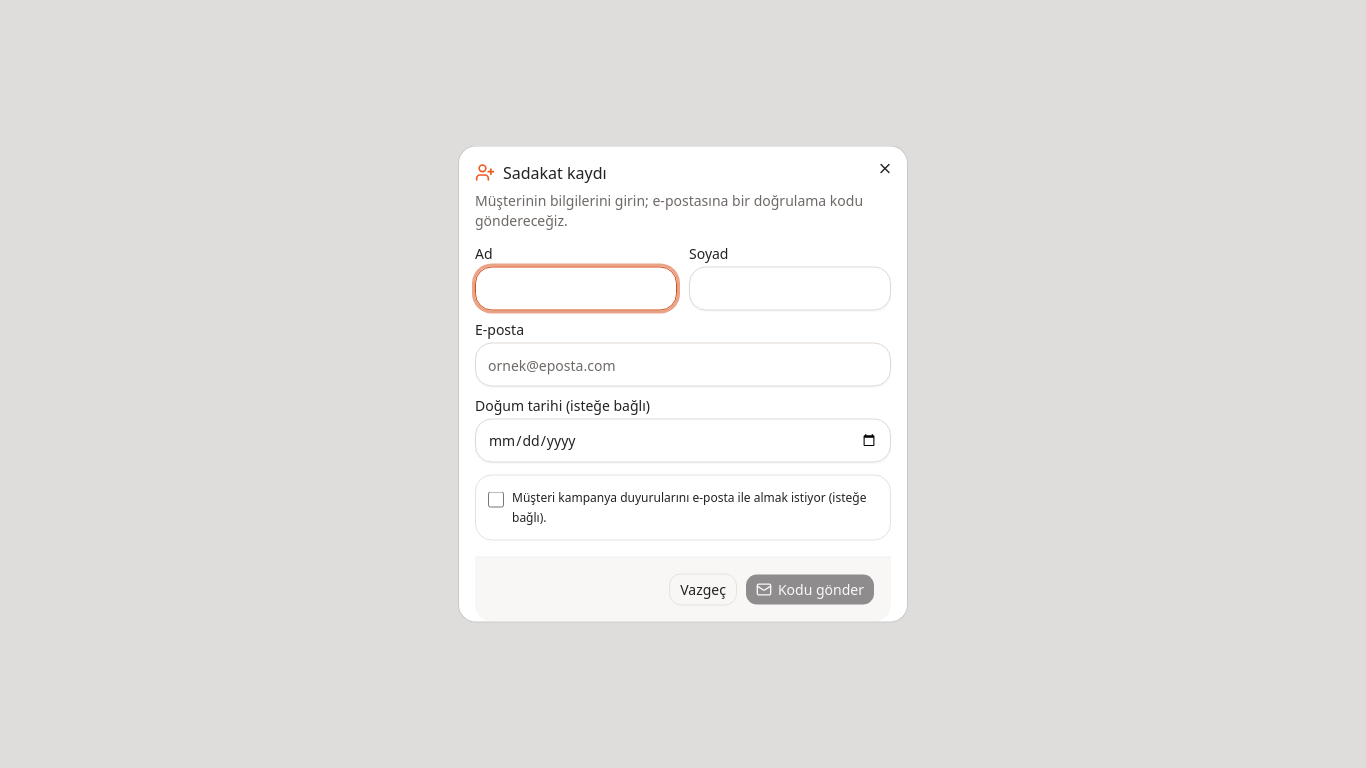
Scenario: LoyaltyEnrollmentDialog › only reveals a development code when the server returns one
This screenshot has width=1366, height=768.
In the field labelled "Ad": (576, 288) [475,266,677,310], type "Ahmet"
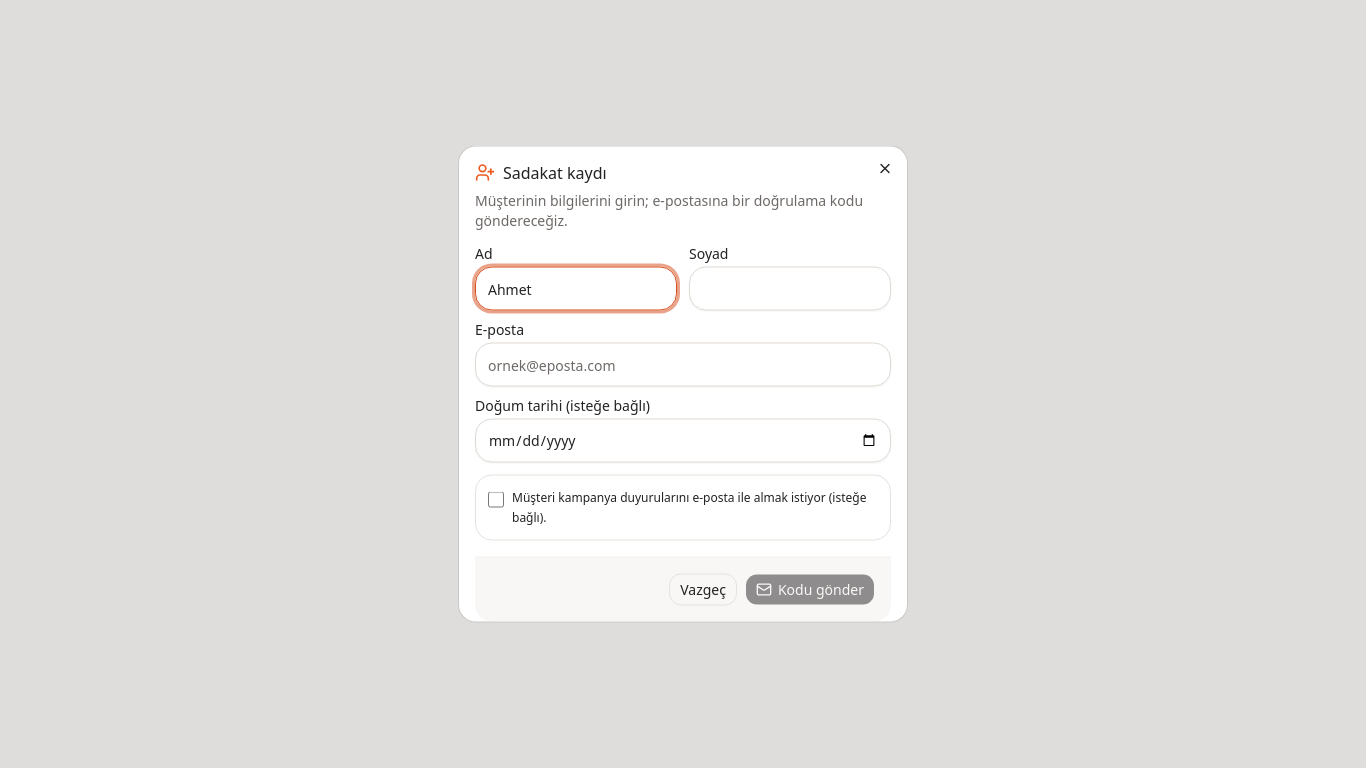
In the field labelled "Soyad": (790, 288) [689,266,891,310], type "Yılmaz"
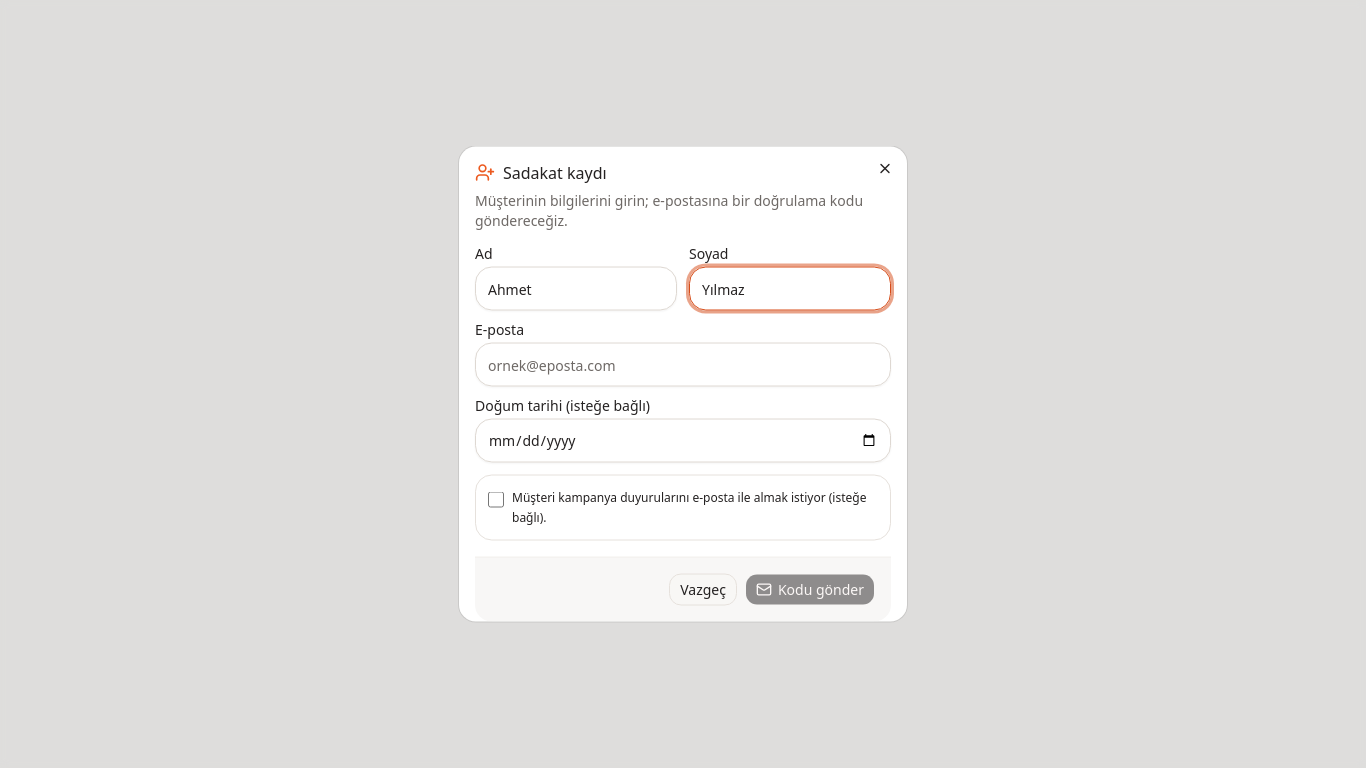
In the field labelled "E-posta": (683, 364) [475,342,891,386], type "ahmet@example.com"
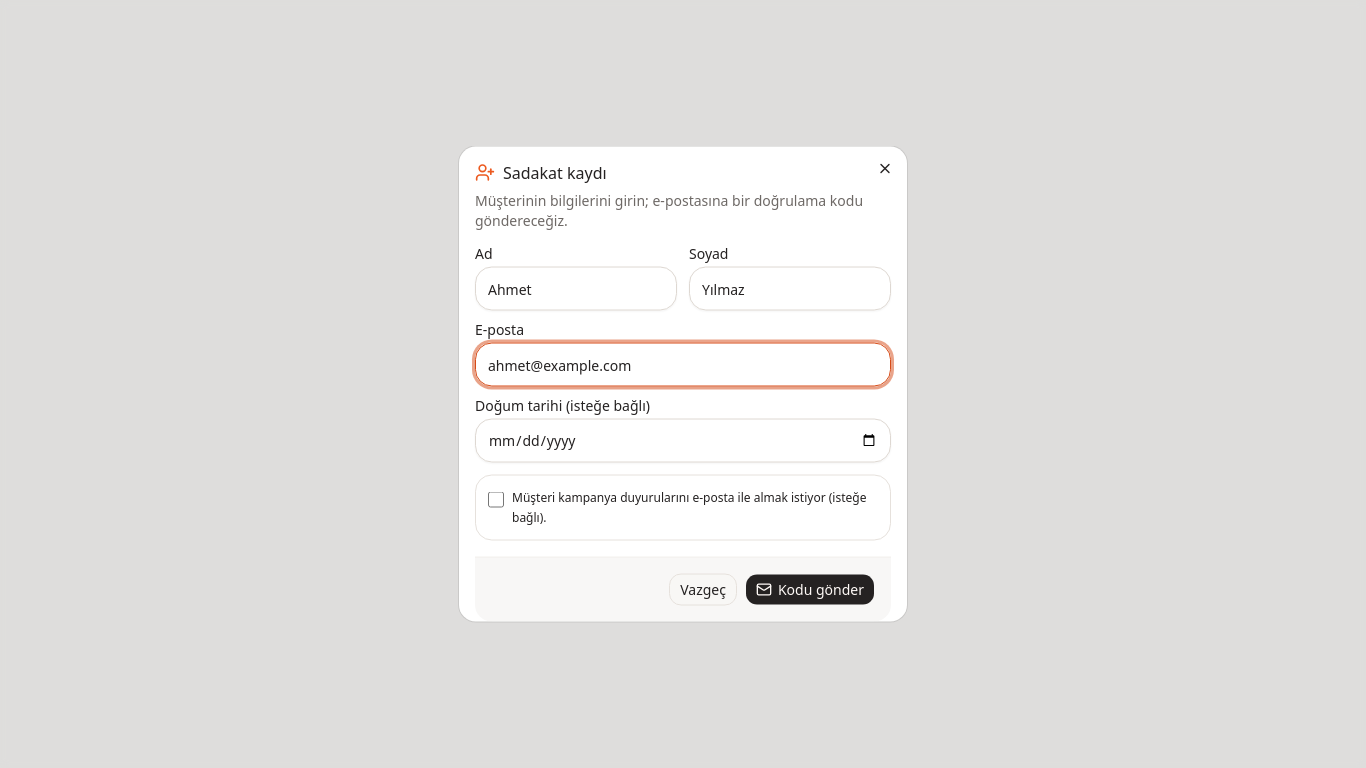
Click the button "Kodu gönder": click(810, 590) [745,574,875,606]
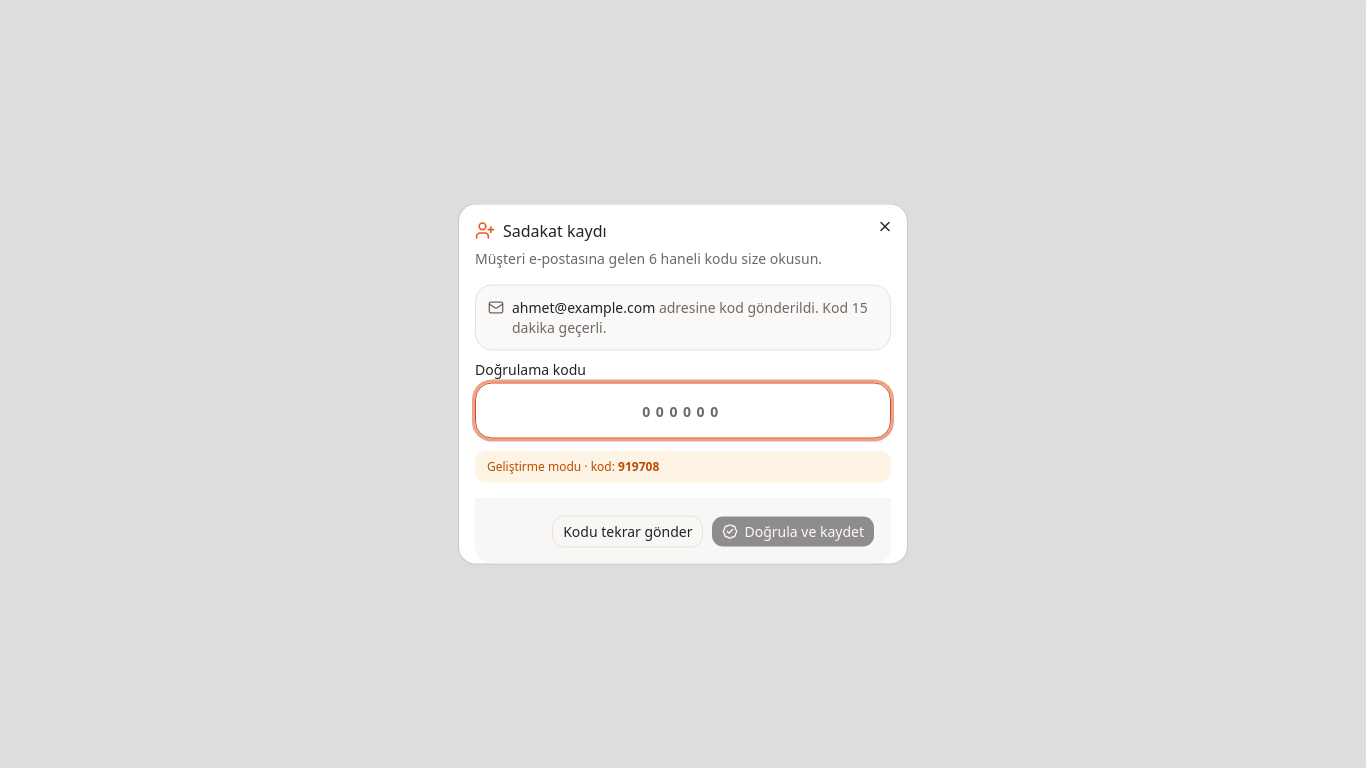
Now the text "Geliştirme modu · kod: 919708" is shown, box [475,450,891,482]
Now the text "919708" is shown, box [618,458,659,474]
